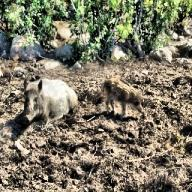boar: (20, 76, 78, 126), (102, 76, 144, 120)
